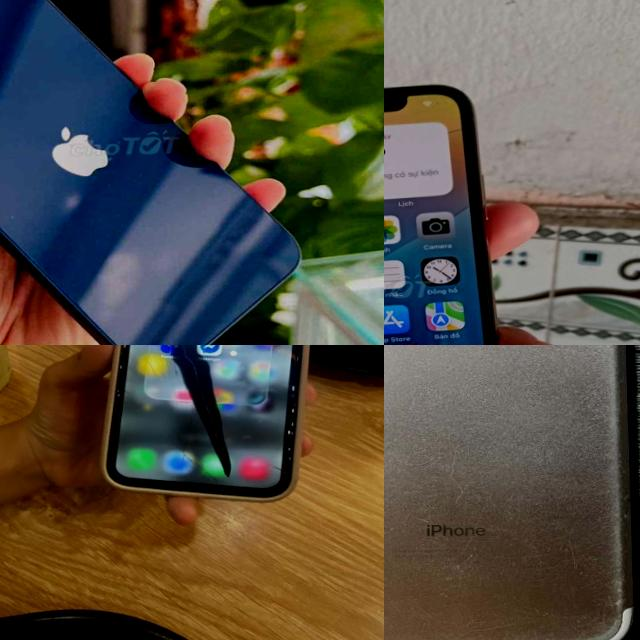gen_11: (103, 345, 308, 500)
gen_12_13: (0, 0, 301, 345)
gen_7_8: (384, 345, 640, 640)
gen_x_xs: (384, 84, 499, 345)
physical_damage: (95, 345, 290, 489)
scratch: (524, 397, 616, 453), (558, 514, 581, 575), (603, 485, 626, 541), (605, 548, 624, 613), (442, 446, 462, 502), (441, 548, 476, 572)
screen_defect: (112, 345, 302, 492)
